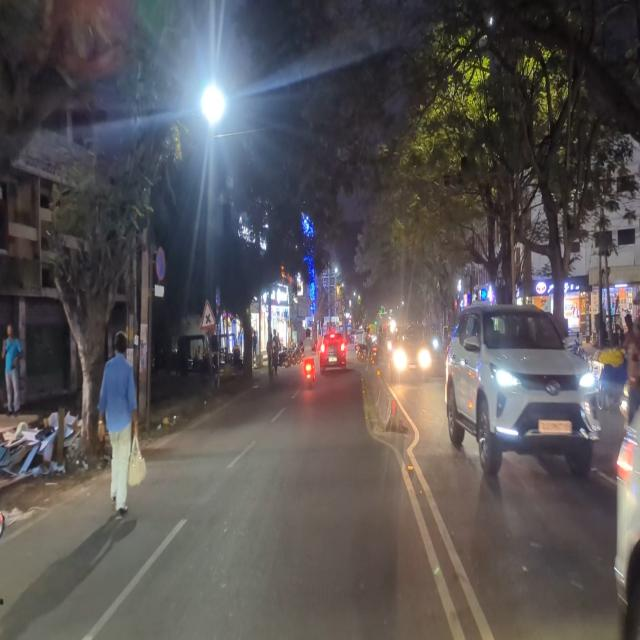bien_cam: (200, 299, 218, 328), (156, 244, 166, 281)
